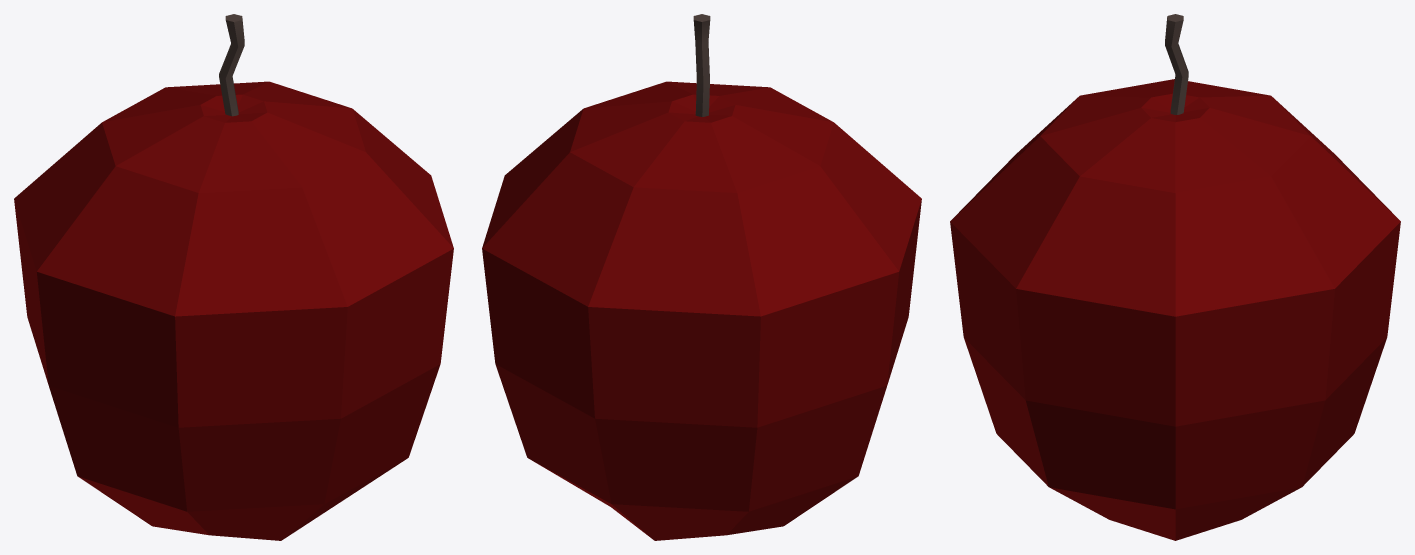
The model's file is Low Poly Apple.fbx.
The picture shows the model from 3 angles, left to right: view 1: azimuth 30°, elevation 25°; view 2: azimuth 150°, elevation 25°; view 3: azimuth 270°, elevation 25°; orthographic projection.
Visible parts, largest first — view 1: Apple_Main, pCylinder1; view 2: Apple_Main, pCylinder1; view 3: Apple_Main, pCylinder1.
Boxes of the visible parts, <box> form: Apple_Main: <box>14,81,453,540</box>; pCylinder1: <box>219,14,244,116</box>; Apple_Main: <box>482,81,921,540</box>; pCylinder1: <box>693,14,710,116</box>; Apple_Main: <box>950,79,1400,540</box>; pCylinder1: <box>1165,14,1188,114</box>.
Size of the model in its own units: 1.85 by 2.19 by 1.85.
